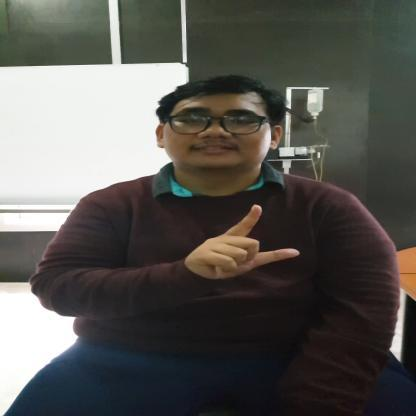L: (183, 203, 308, 284)
